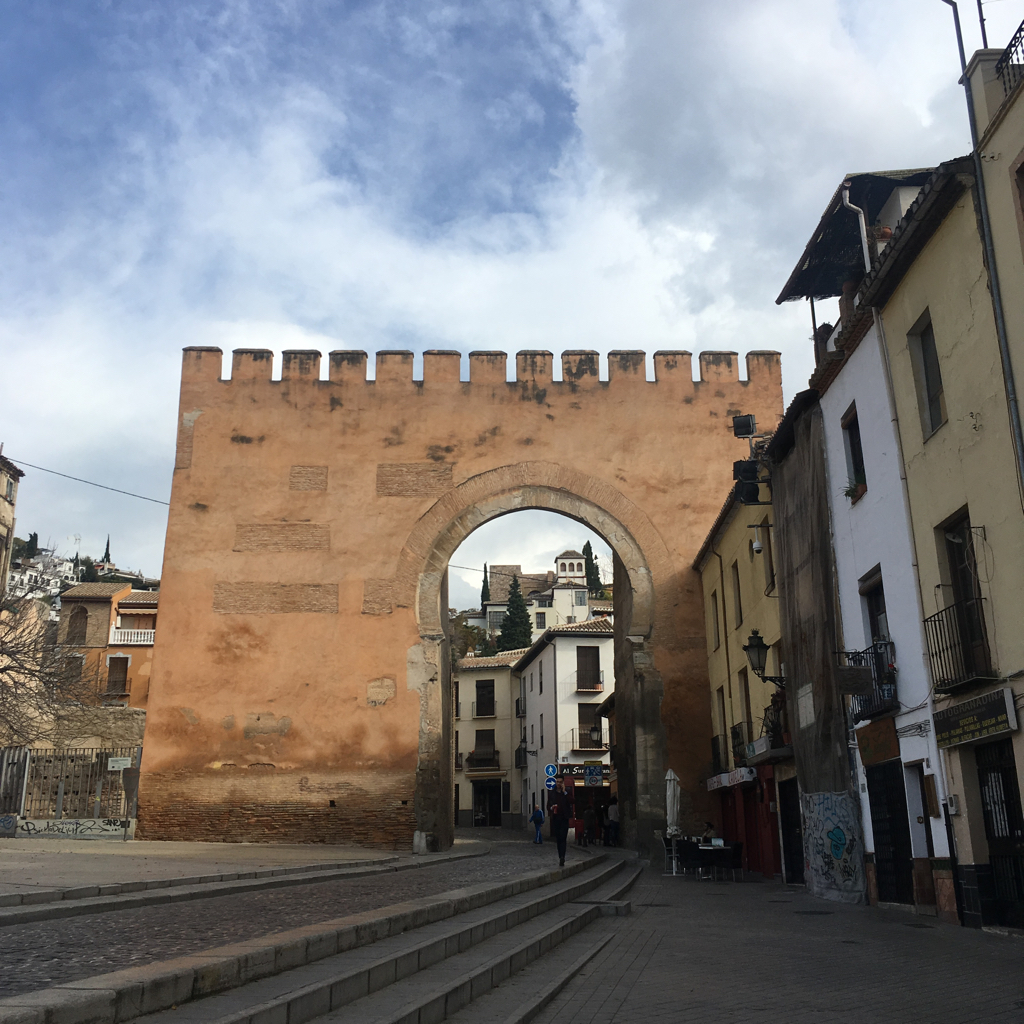arco-herradura: (426, 495, 646, 659)
